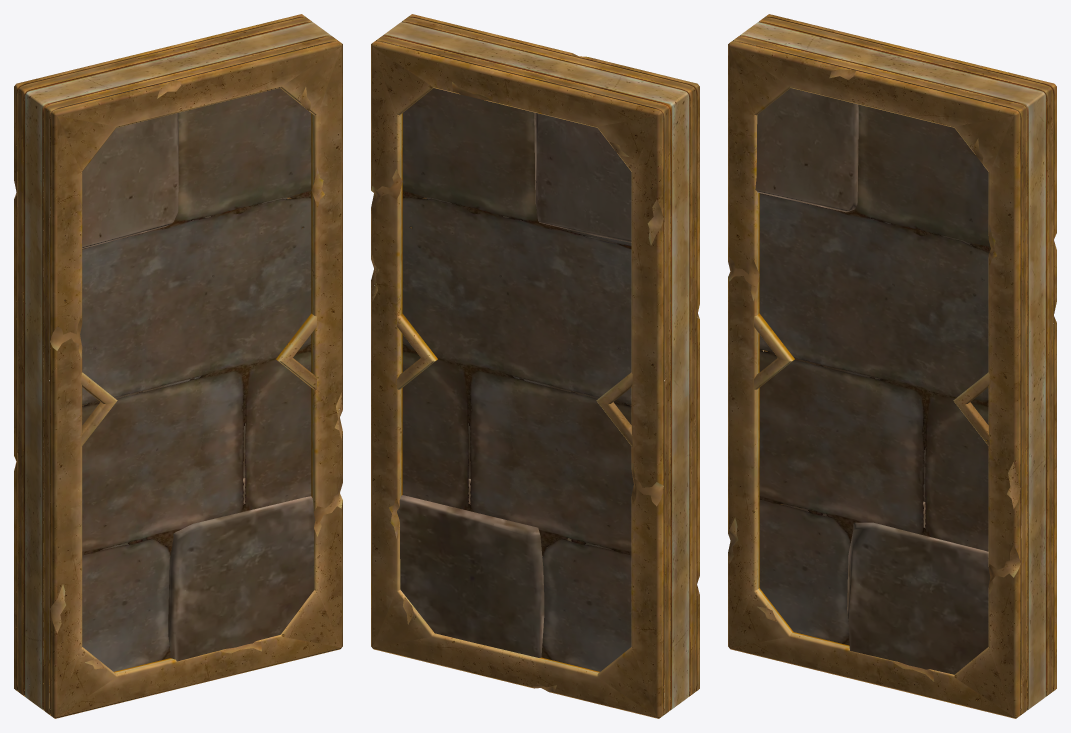
3 views of the same model, side by side, from view 1: azimuth 30°, elevation 25°; view 2: azimuth 150°, elevation 25°; view 3: azimuth 330°, elevation 25° (orthographic).
Visible parts, largest first — view 1: SM_AgilityWall_4x2_LOD0; view 2: SM_AgilityWall_4x2_LOD0; view 3: SM_AgilityWall_4x2_LOD0.
Part boxes in pixels (bbox=[...]): SM_AgilityWall_4x2_LOD0: bbox=[14, 14, 342, 718]; SM_AgilityWall_4x2_LOD0: bbox=[371, 14, 699, 718]; SM_AgilityWall_4x2_LOD0: bbox=[728, 14, 1056, 718].
Size of the model in its own units: 2 by 4 by 0.5.
Materials: 3 (3 with a texture image).
